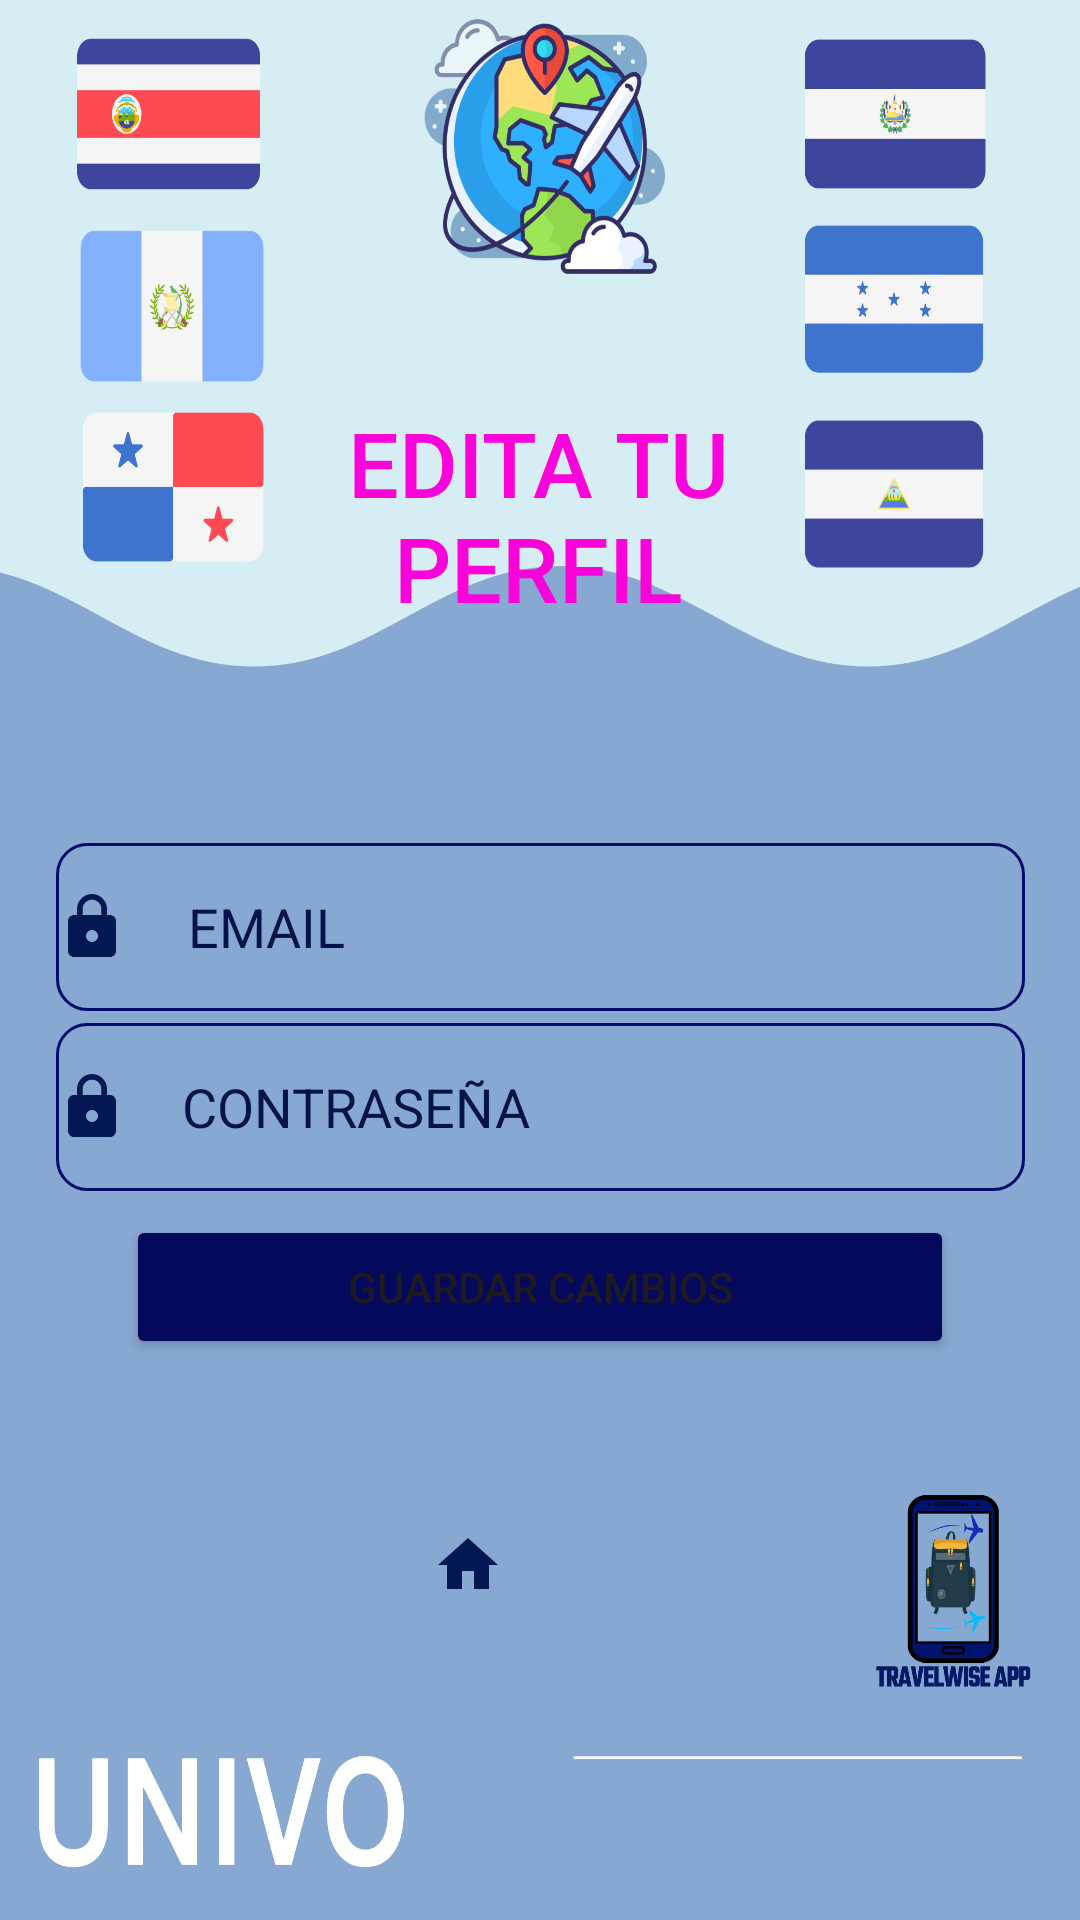

Icon click points for this 1080x1920 phone screenshot, format [x,y]:
home: [468,1563]
